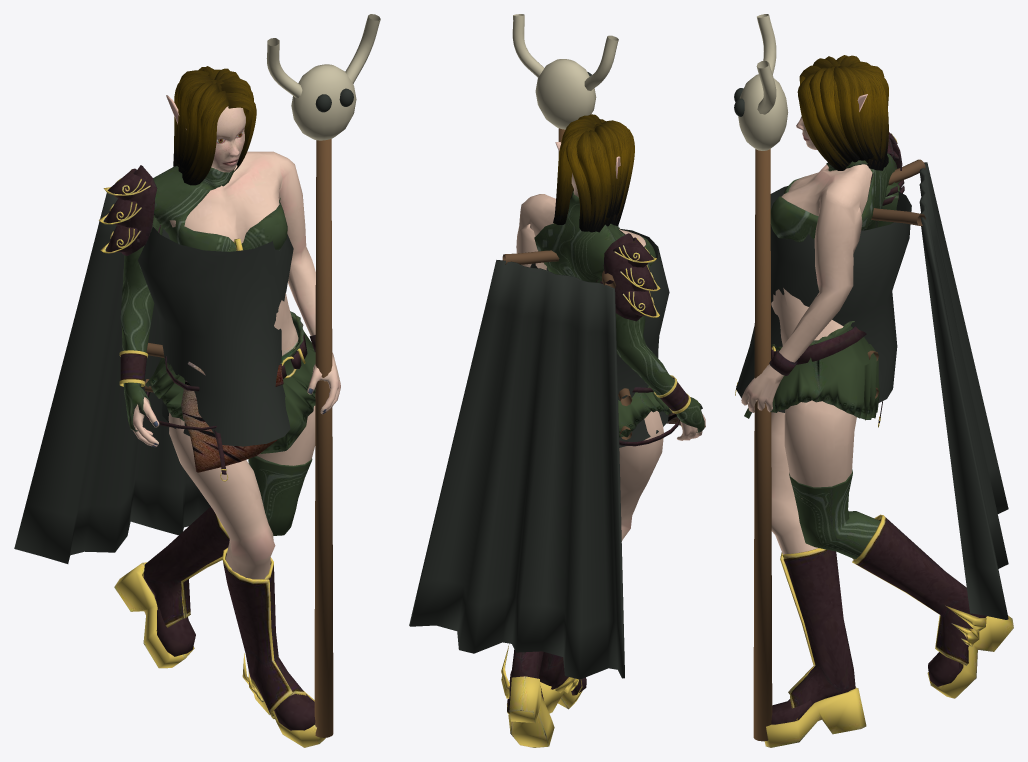
Rendered from actor-hag.glb.
3 views of the same model, side by side, from view 1: azimuth 30°, elevation 25°; view 2: azimuth 150°, elevation 25°; view 3: azimuth 270°, elevation 25° (orthographic). The views are drawn at different scales.
Visible parts, largest first — view 1: DarkElf · posed; view 2: DarkElf · posed; view 3: DarkElf · posed.
Part boxes in pixels (x1=…): DarkElf · posed: x1=14, y1=14, x2=380, y2=747; DarkElf · posed: x1=409, y1=14, x2=705, y2=747; DarkElf · posed: x1=734, y1=14, x2=1013, y2=747.
Bounding box in the file's own units: 0.7683 × 2.17 × 0.775.
7 materials, 3 textured.
